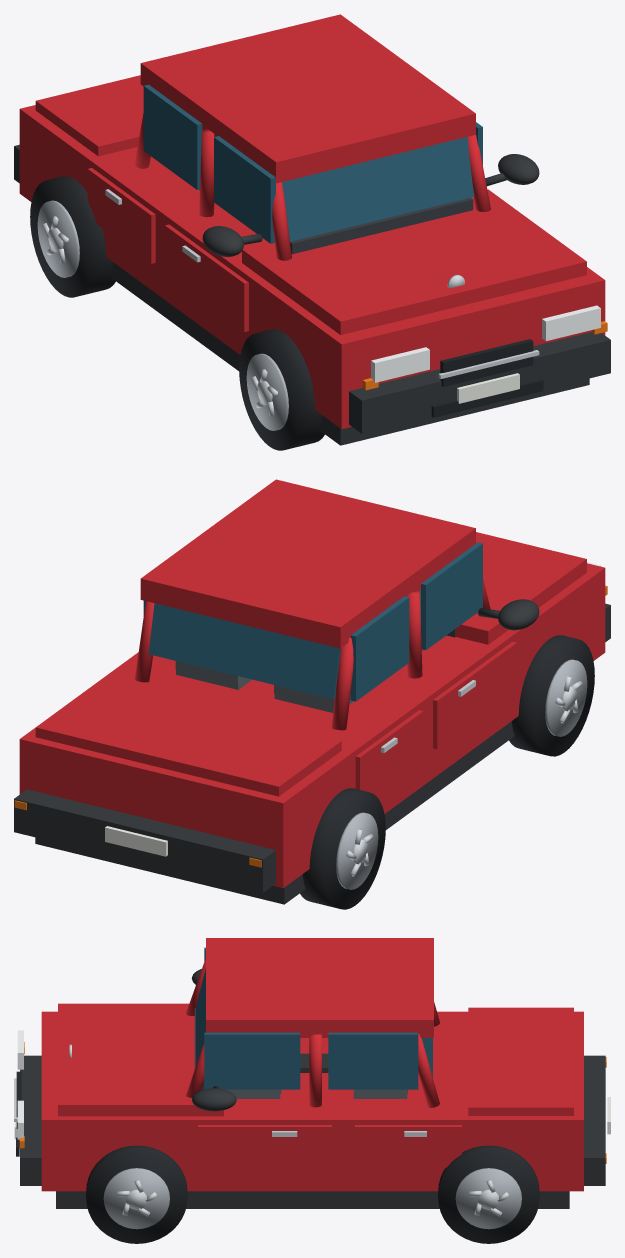
Rendered from auto.glb.
The picture shows the model from 3 angles, top to bottom: view 1: azimuth 30°, elevation 25°; view 2: azimuth 150°, elevation 25°; view 3: azimuth 270°, elevation 25°; orthographic projection. The views are drawn at different scales.
Parts seen in each view (by area): view 1: Techo del automovil, Carroceria principal, Capo delantero, Parabrisas delantero, Defensa delantera, Cajuela trasera, Neumatico delantera Izquierda, Neumatico trasera Izquierda, Chasis inferior, Puerta delantera Izquierda, Ventana delantera Izquierda, Ventana trasera Izquierda (+15 smaller); view 2: Carroceria principal, Techo del automovil, Cajuela trasera, Defensa trasera, Cristal trasero, Capo delantero, Neumatico trasera Izquierda, Neumatico delantera Izquierda, Chasis inferior, Ventana delantera Izquierda, Puerta delantera Izquierda, Ventana trasera Izquierda (+10 smaller); view 3: Carroceria principal, Techo del automovil, Capo delantero, Cajuela trasera, Chasis inferior, Puerta delantera Derecha, Ventana delantera Derecha, Ventana trasera Derecha, Neumatico delantera Derecha, Neumatico trasera Derecha, Puerta trasera Derecha, Defensa trasera (+10 smaller).
Part boxes in pixels (box(x1,y1,x2,y2)): Techo del automovil: box(140, 14, 475, 183); Carroceria principal: box(19, 105, 605, 429); Capo delantero: box(242, 189, 586, 334); Parabrisas delantero: box(282, 137, 474, 241); Defensa delantera: box(349, 332, 610, 433); Cajuela trasera: box(35, 75, 143, 156); Neumatico delantera Izquierda: box(239, 329, 324, 450); Neumatico trasera Izquierda: box(30, 176, 115, 297); Chasis inferior: box(110, 262, 589, 445); Puerta delantera Izquierda: box(165, 224, 248, 331); Ventana delantera Izquierda: box(214, 136, 275, 243); Ventana trasera Izquierda: box(143, 84, 202, 189); Carroceria principal: box(19, 563, 605, 887); Techo del automovil: box(140, 479, 475, 648); Cajuela trasera: box(35, 681, 341, 796); Defensa trasera: box(14, 789, 275, 892); Cristal trasero: box(148, 603, 340, 699); Capo delantero: box(455, 532, 586, 644); Neumatico trasera Izquierda: box(300, 788, 385, 909); Neumatico delantera Izquierda: box(509, 635, 594, 756); Chasis inferior: box(35, 721, 514, 904); Ventana delantera Izquierda: box(421, 542, 482, 649); Puerta delantera Izquierda: box(433, 642, 516, 749); Ventana trasera Izquierda: box(350, 596, 409, 701); Carroceria principal: box(41, 1011, 583, 1191); Techo del automovil: box(206, 938, 433, 1037); Capo delantero: box(58, 1003, 223, 1116); Cajuela trasera: box(468, 1007, 573, 1115); Chasis inferior: box(56, 1191, 569, 1208); Puerta delantera Derecha: box(198, 1125, 331, 1167); Ventana delantera Derecha: box(204, 1032, 300, 1089); Ventana trasera Derecha: box(328, 1032, 418, 1089); Neumatico delantera Derecha: box(86, 1145, 187, 1243); Neumatico trasera Derecha: box(438, 1145, 539, 1243); Puerta trasera Derecha: box(355, 1125, 461, 1167); Defensa trasera: box(584, 1055, 605, 1185).
Bounding box in the file's own units: 2.26 × 1.6 × 4.24.
